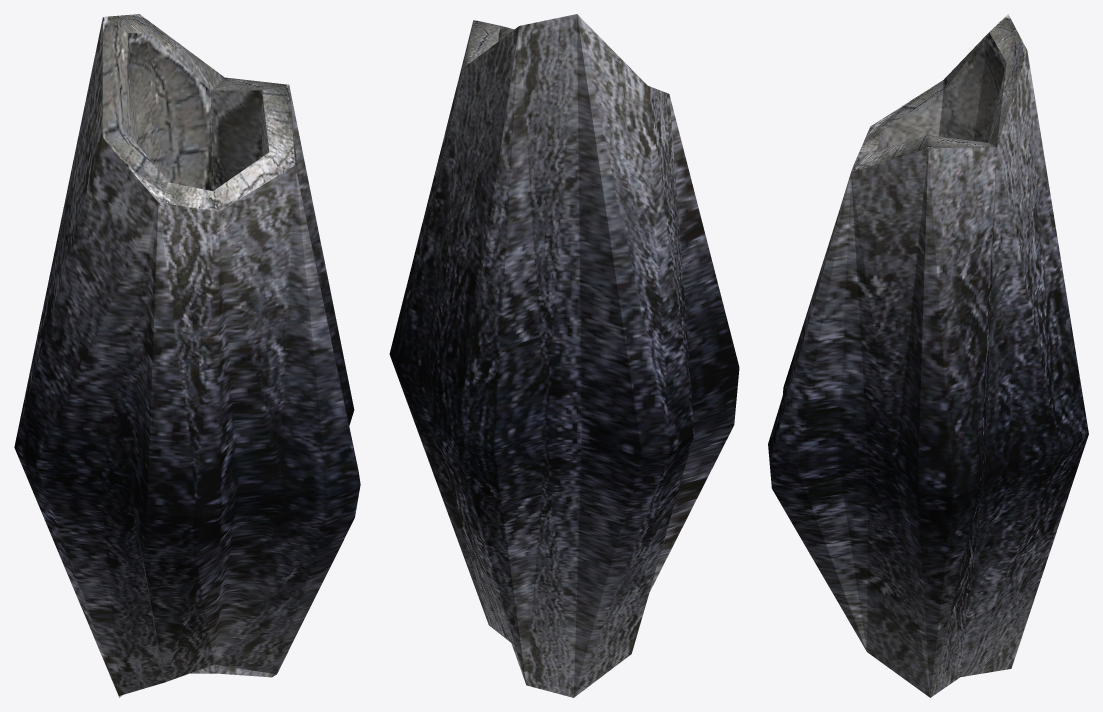
The model's file is decd_massassistump_l0.fbx.
The picture shows the model from 3 angles, left to right: view 1: azimuth 30°, elevation 25°; view 2: azimuth 150°, elevation 25°; view 3: azimuth 270°, elevation 25°; orthographic projection. The views are drawn at different scales.
Visible parts, largest first — view 1: mesh_node; view 2: mesh_node; view 3: mesh_node.
Boxes of the visible parts, x1,y1,x2,y2 form: mesh_node: [14, 14, 360, 697]; mesh_node: [389, 14, 739, 697]; mesh_node: [768, 14, 1088, 697].
Bounding box in the file's own units: 10.64 × 22.68 × 10.29.
